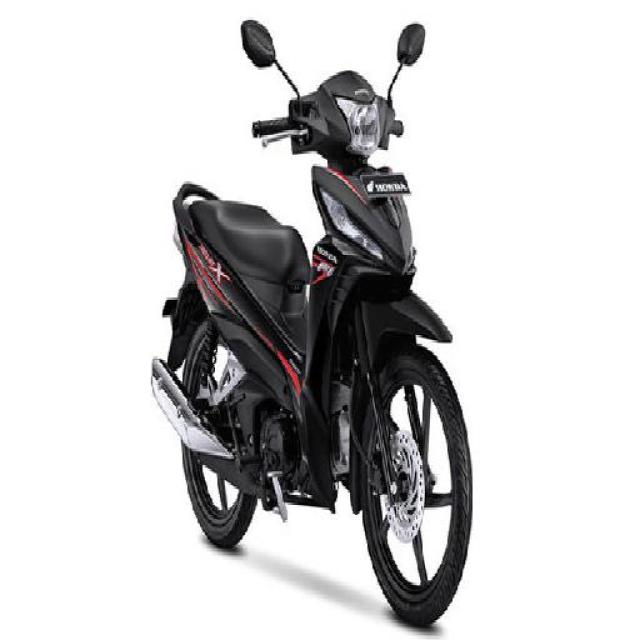All: (144, 68, 478, 629)
Head: (247, 72, 410, 154)
Tail: (164, 180, 215, 249)
